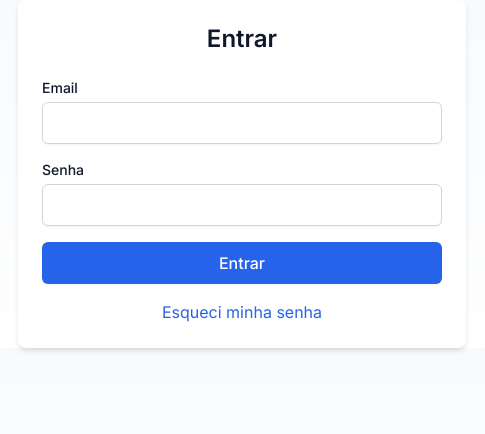
Test: AuthForm › Form Validation › should require email field
Click the button "Entrar".
click(242, 263)  # box [42,242,442,284]
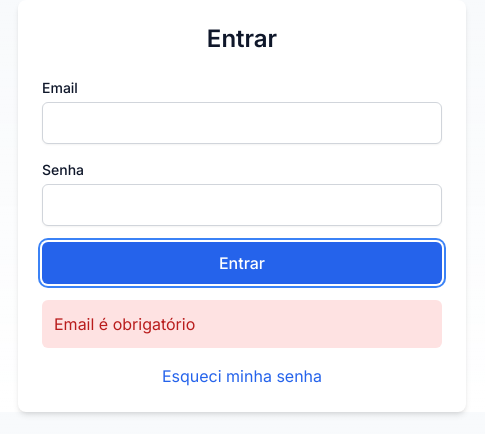
Result: the text "Email é obrigatório" is shown at [42,300,442,348]
